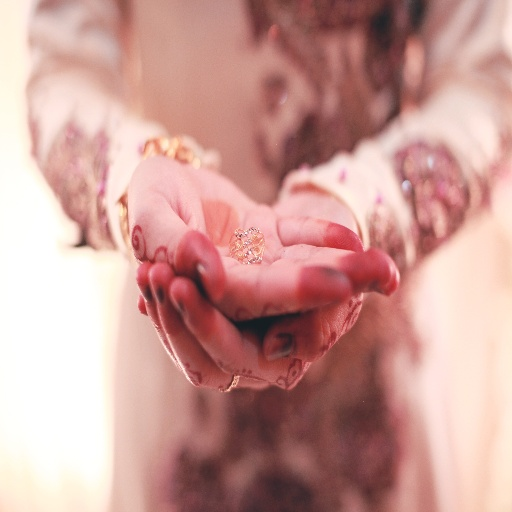hand: (135, 179, 364, 393)
